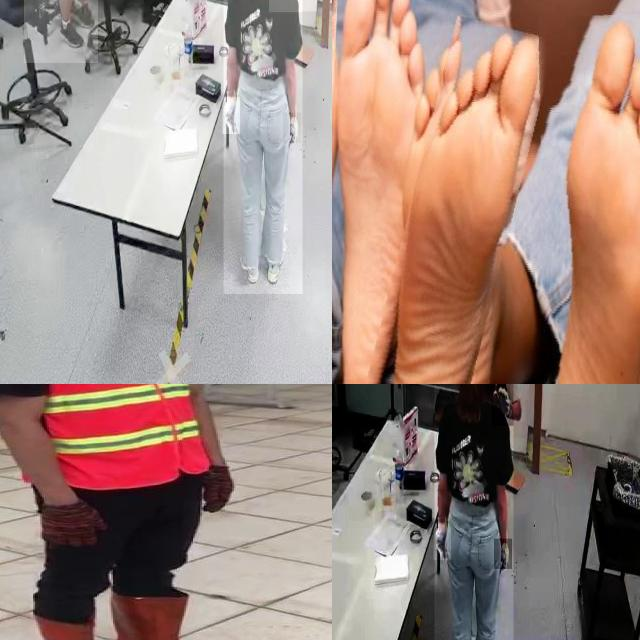Barefoots: (402, 0, 518, 384), (332, 0, 437, 384), (549, 3, 640, 384), (571, 19, 580, 29)
boots: (107, 592, 237, 640), (36, 614, 146, 640)
hand_glove: (491, 384, 514, 426), (222, 97, 240, 135), (434, 523, 452, 561), (283, 112, 301, 144), (494, 538, 512, 570)
person: (0, 384, 252, 640), (223, 0, 302, 294), (434, 384, 513, 640), (23, 0, 98, 63), (479, 384, 528, 438)
shoes: (265, 247, 285, 286), (241, 250, 261, 286)
vest: (29, 384, 207, 491)
